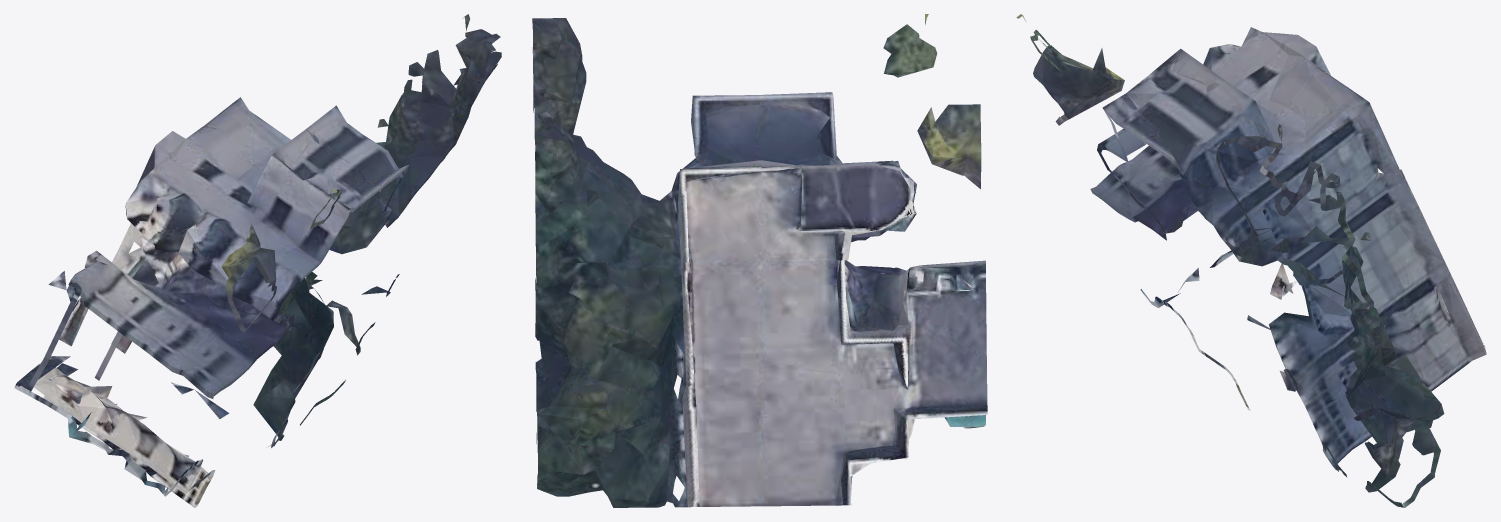
3 renders of one model, left to right at view 1: azimuth 30°, elevation 25°; view 2: azimuth 150°, elevation 25°; view 3: azimuth 270°, elevation 25°, orthographic. The views are drawn at different scales.
Bounding box in the file's own units: 42.89 × 36.63 × 35.87.
1 material, 1 textured.
